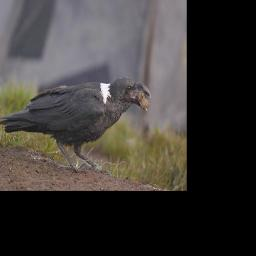Crow: (0, 74, 152, 176)
